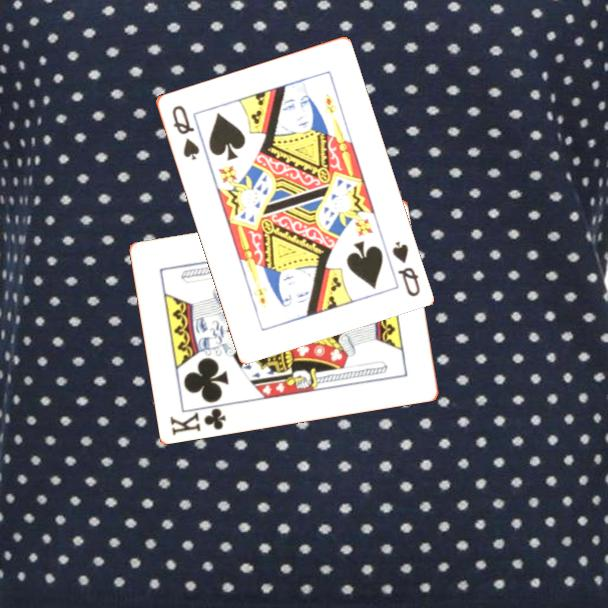c13: (167, 404, 229, 438)
s12: (168, 101, 202, 163), (388, 237, 422, 299)
